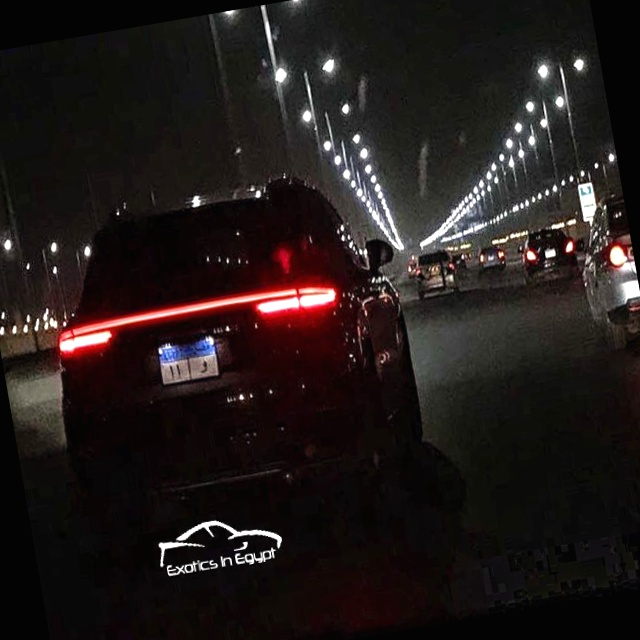License Plate: (154, 330, 222, 388)
